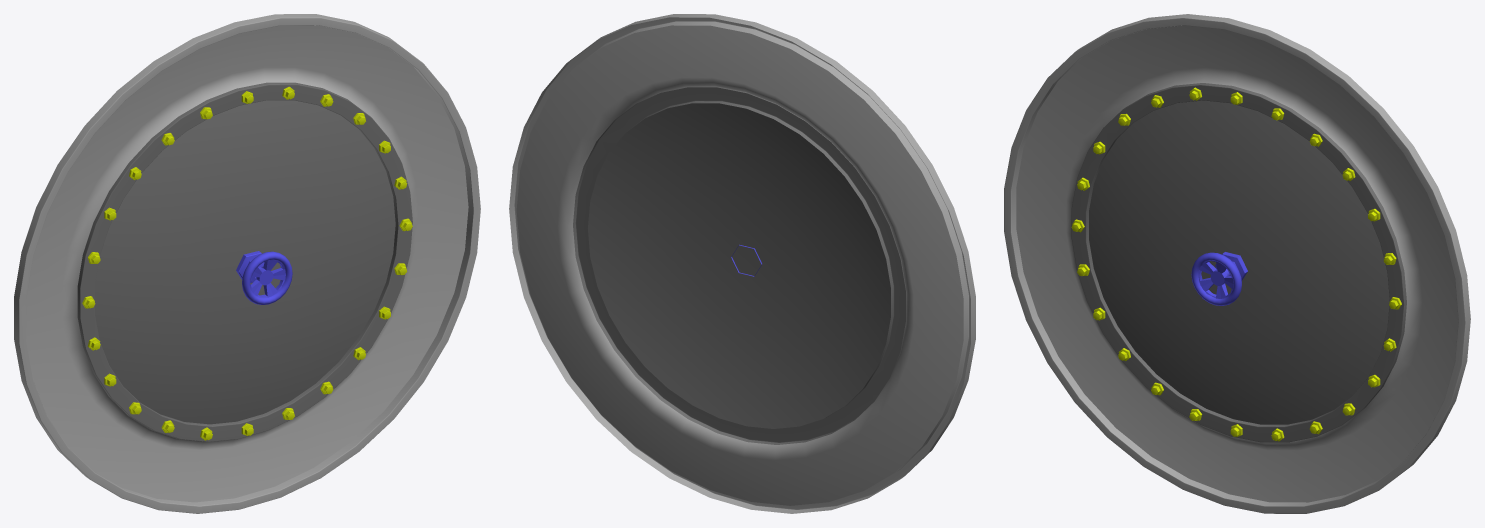
The model's file is Round_block_01.fbx.
3 views of the same model, side by side, from view 1: azimuth 30°, elevation 25°; view 2: azimuth 150°, elevation 25°; view 3: azimuth 330°, elevation 25° (orthographic).
Parts seen in each view (by area): view 1: Round_block_01; view 2: Round_block_01; view 3: Round_block_01.
Boxes of the visible parts, x1,y1,x2,y2 form: Round_block_01: (14, 14, 480, 513); Round_block_01: (509, 14, 975, 513); Round_block_01: (1004, 14, 1470, 513).
Size of the model in its own units: 5.39 by 5.39 by 0.5997.
